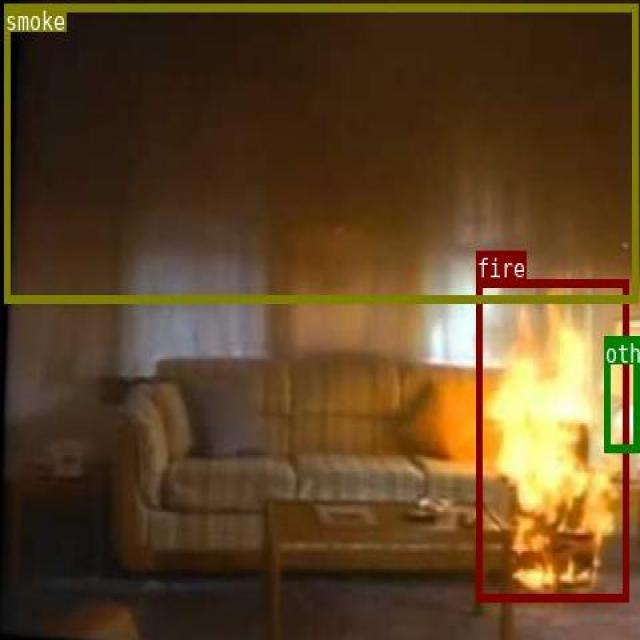fire: (475, 278, 628, 600)
smoke: (3, 2, 636, 301)
